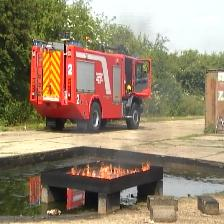fire: (64, 162, 153, 179)
